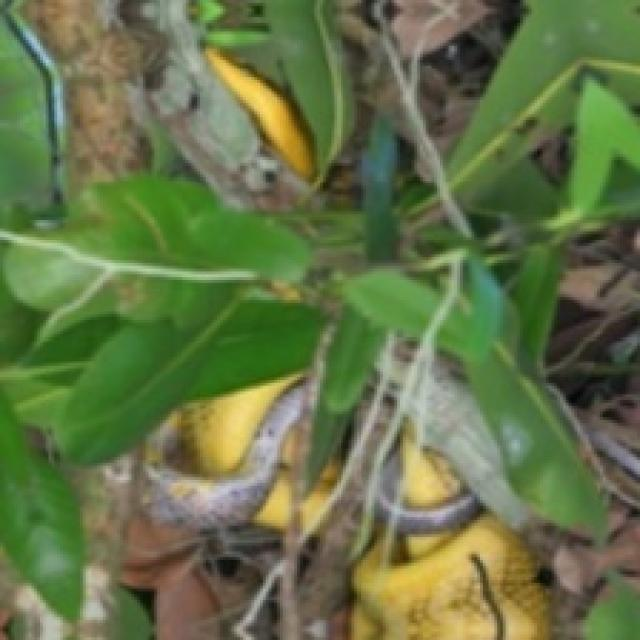red-tailed green ratsnake: (351, 436, 548, 640), (142, 374, 308, 530), (208, 50, 312, 173), (301, 462, 340, 529)
